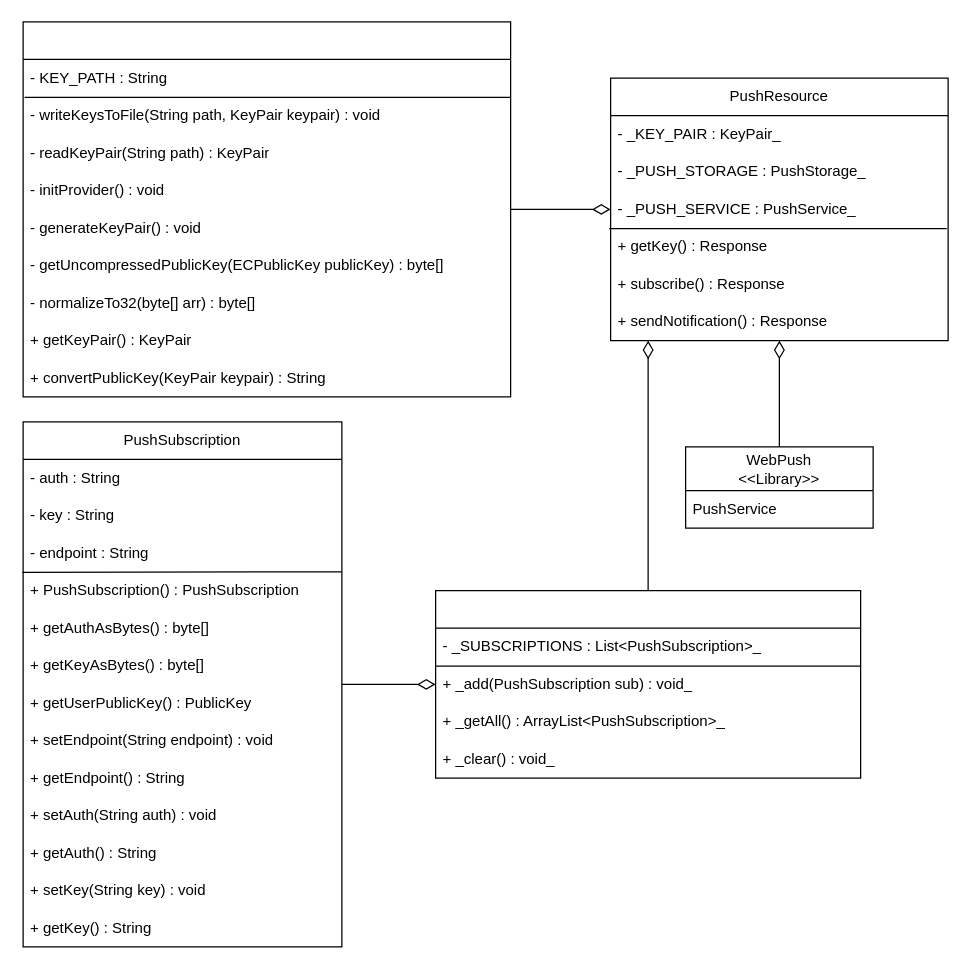
Image size: 970x969. Some labels were removed from this diagram. The shapes that lost their labels are listed below. From the top down, each one's box as (x1, y1, x2, y2) in pixels, then its label:
(22, 21, 511, 397): KeyManager <<static>>
(434, 589, 861, 778): PushStorage
